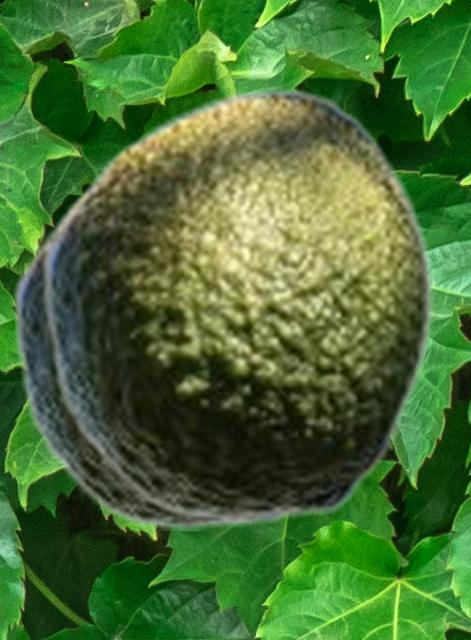avocado: (40, 87, 433, 521), (11, 180, 286, 529)
